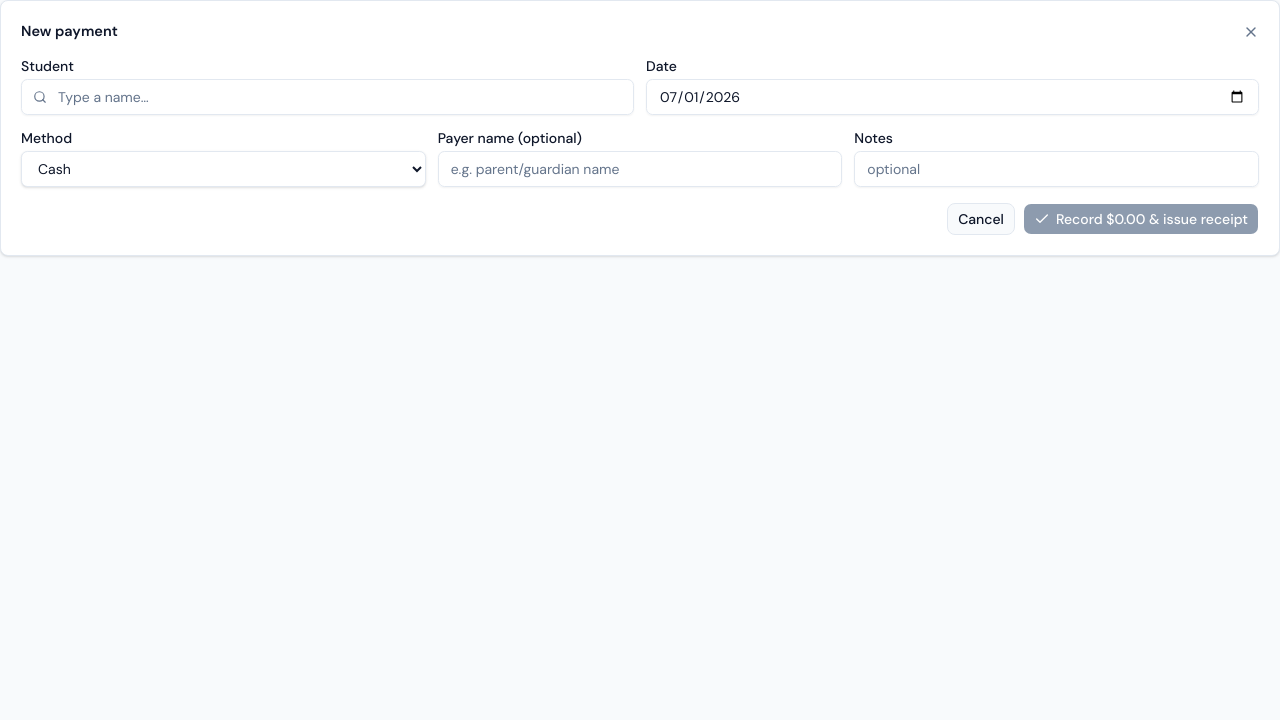
it: NewPaymentForm — allocation math › Receipt total updates live as allocations are entered
The width and height of the screenshot is (1280, 720).
Type "Tendai" into the field labelled "Student" at (328, 97), box [21, 79, 634, 115]
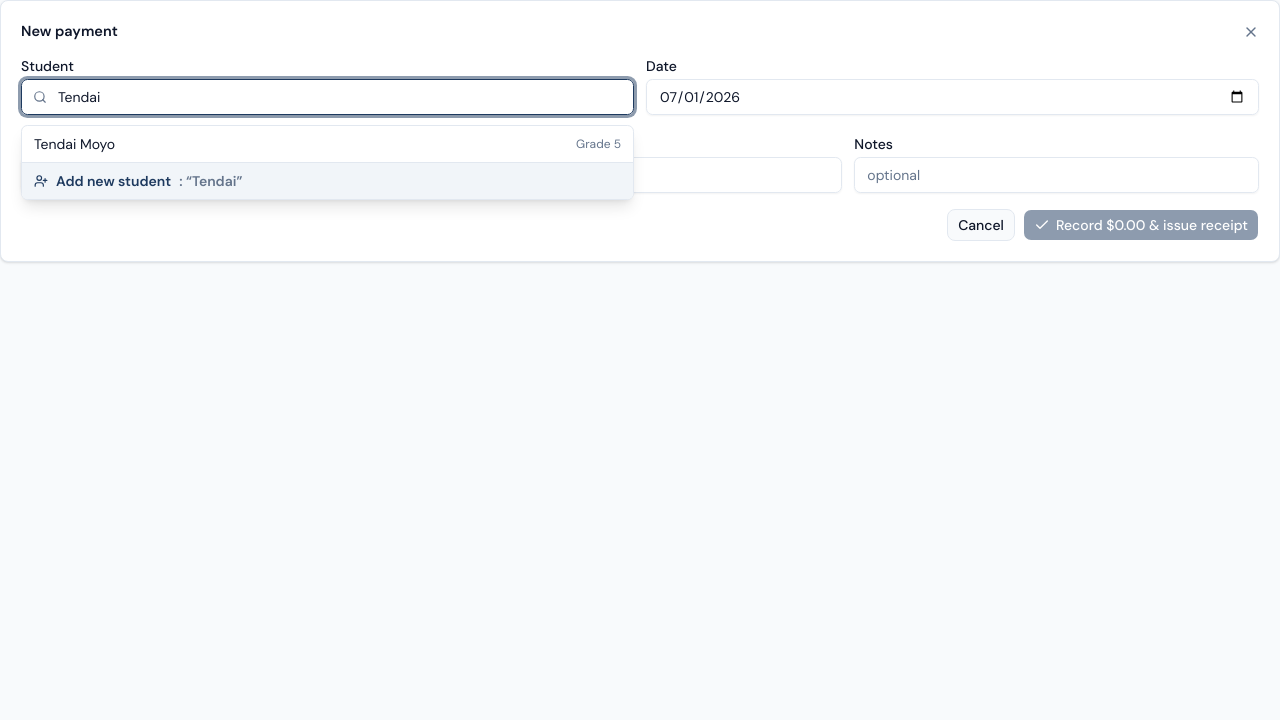
Click the button "Tendai Moyo Grade 5" at (75, 144), box [22, 126, 633, 162]
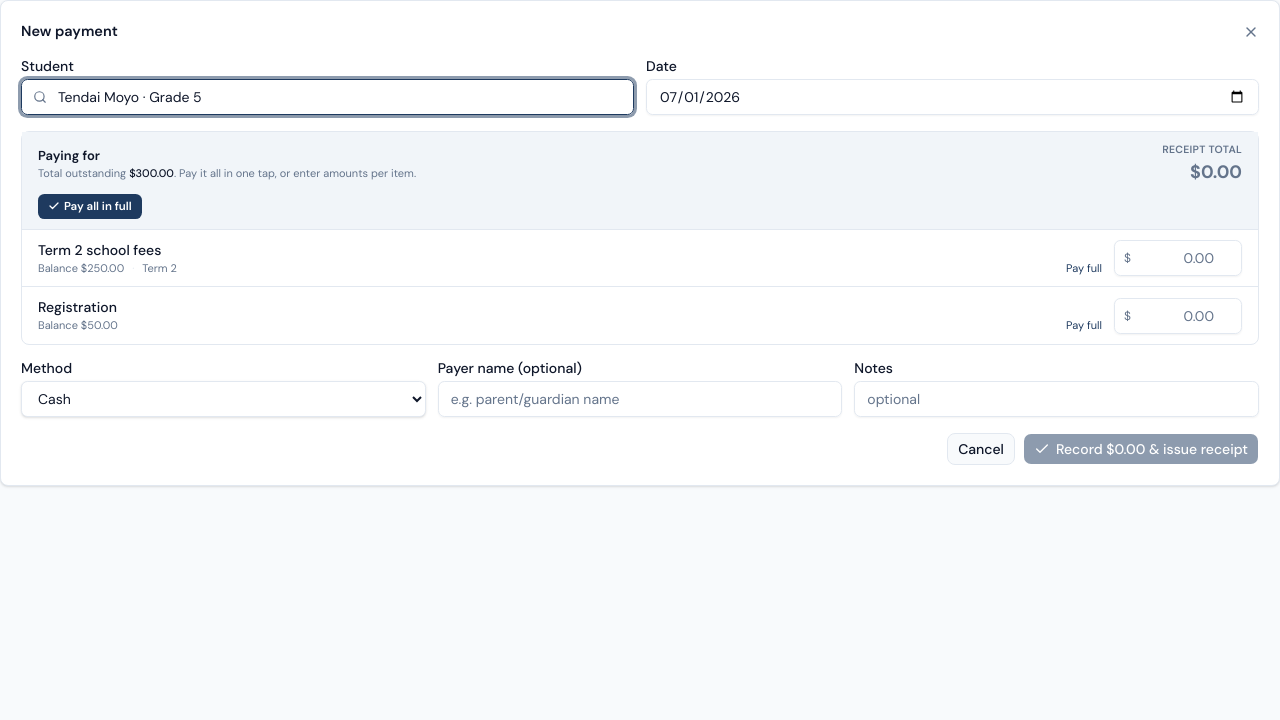
Type "100" into the number field named "Amount paid for Term 2 school fees" at (1178, 258), box [1114, 240, 1242, 276]
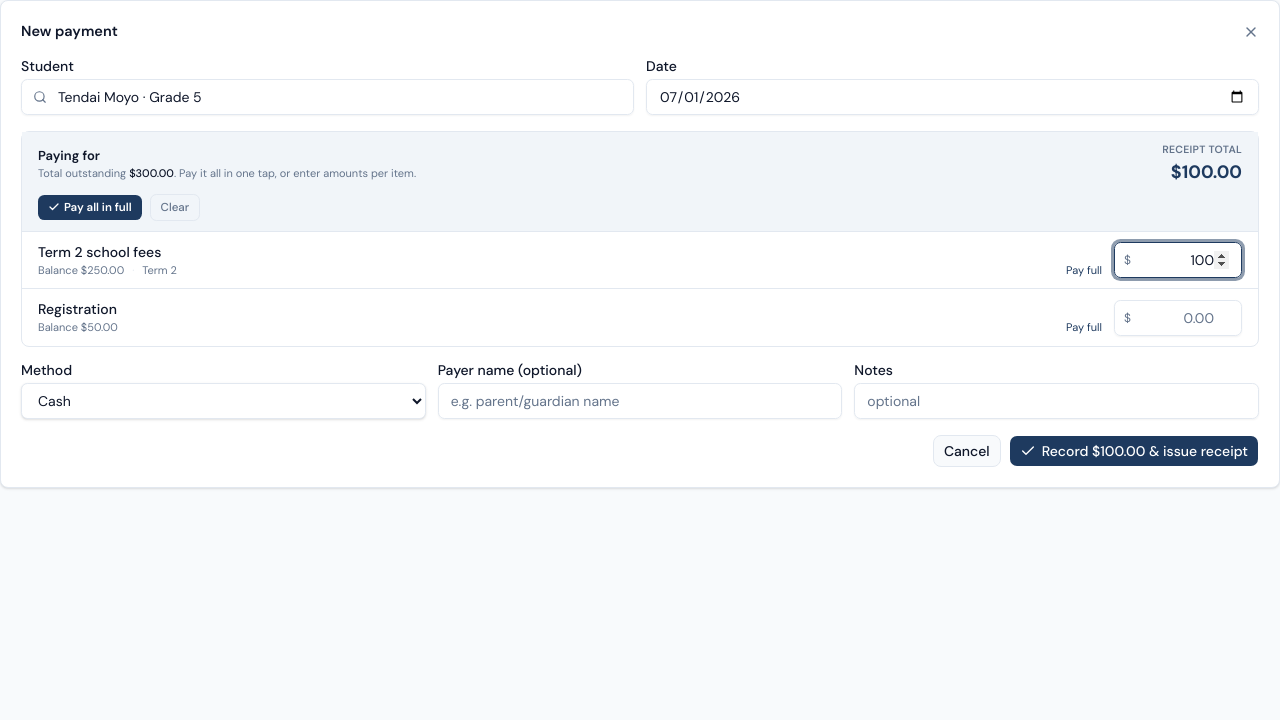
Check: the text "$100.00" is shown, box [1162, 158, 1242, 186]
Type "25" into the number field named "Amount paid for Registration" at (1178, 318), box [1114, 300, 1242, 336]
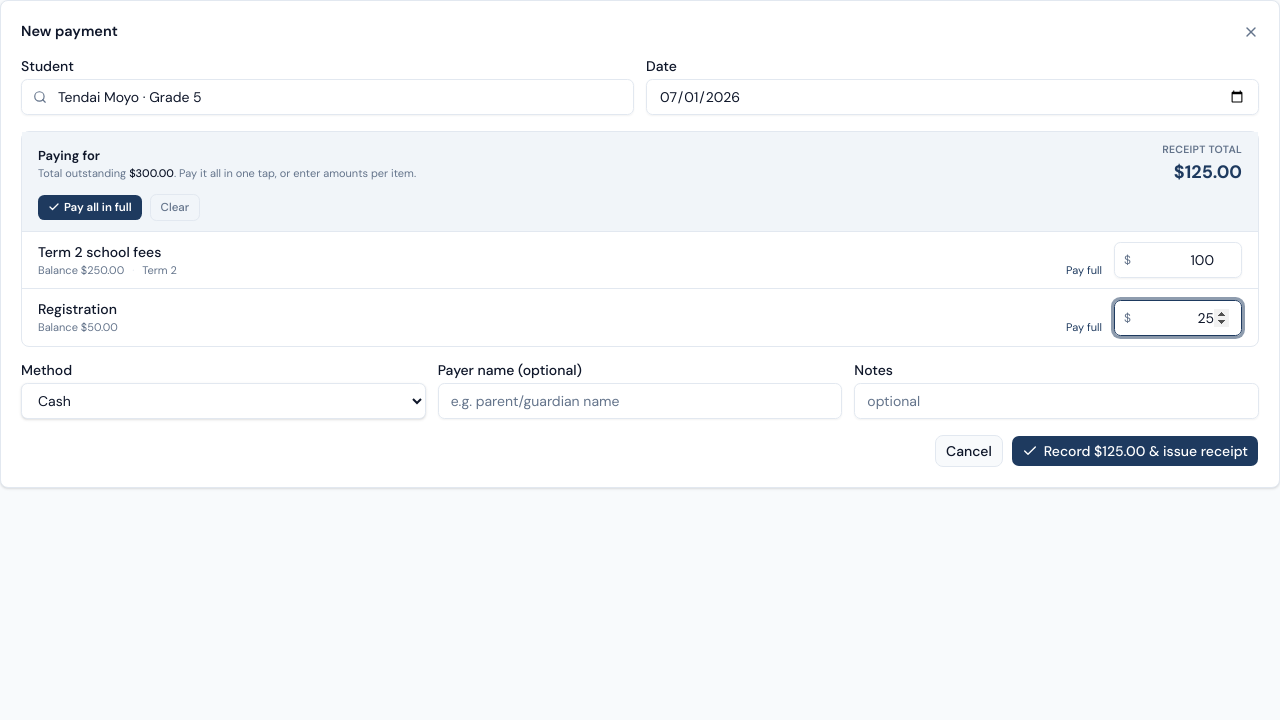
Check: the text "$125.00" is shown, box [1162, 158, 1242, 186]
